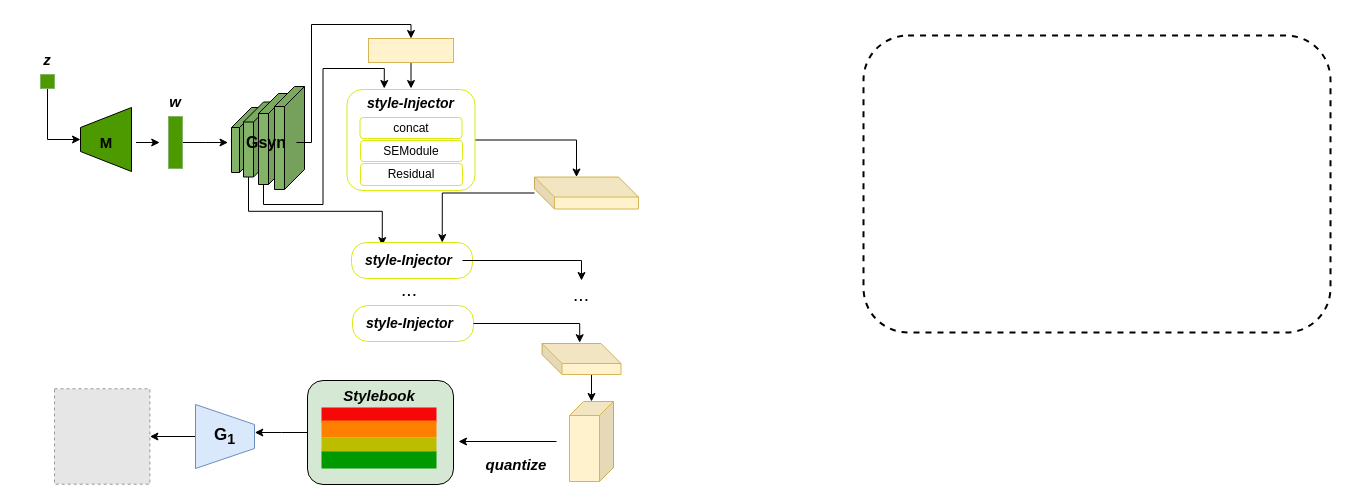
Some shapes in this 1348 by 502 pixel diagram are drawn without their labels. Grey dashed boxes stand in for pictures. The shapes that lost their labels are listed below. From the top down, each one's box as (x1, y1, x2, y2) in pixels, then its label:
(368, 38, 454, 62): Convolution
(568, 400, 614, 482): f final
